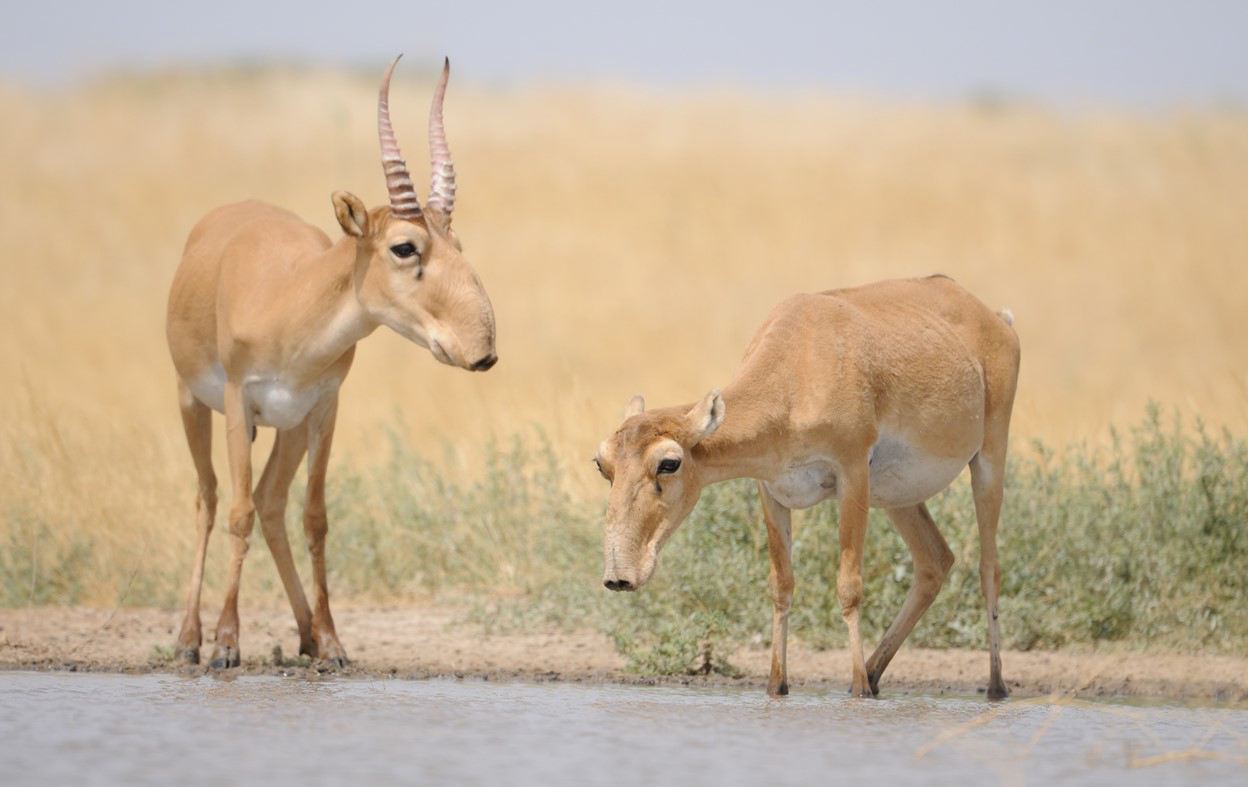saiga: (164, 53, 513, 698), (594, 272, 1017, 684)
